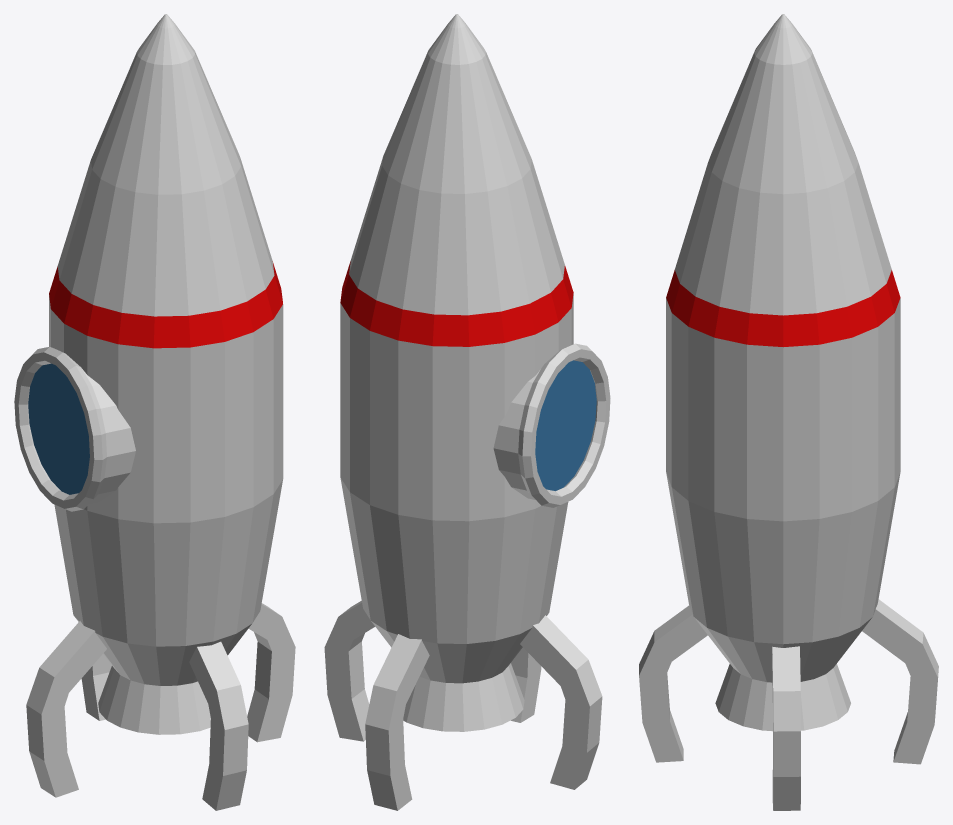
The model's file is rocketship.fbx.
3 views of the same model, side by side, from view 1: azimuth 30°, elevation 25°; view 2: azimuth 150°, elevation 25°; view 3: azimuth 270°, elevation 25° (orthographic).
Visible parts, largest first — view 1: pCylinder1, pCube1, pTorus1, pDisc1; view 2: pCylinder1, pCube1, pTorus1, pDisc1; view 3: pCylinder1, pCube1.
Boxes of the visible parts, x1,y1,x2,y2 form: pCylinder1: (49,14,283,734); pCube1: (26,603,295,810); pTorus1: (14,346,135,511); pDisc1: (28,363,89,494); pCylinder1: (340,14,573,731); pCube1: (324,601,602,810); pTorus1: (493,343,610,507); pDisc1: (535,360,596,490); pCylinder1: (666,14,900,731); pCube1: (639,599,938,810).
Bounding box in the file's own units: 3.99 × 10.9 × 3.99.
